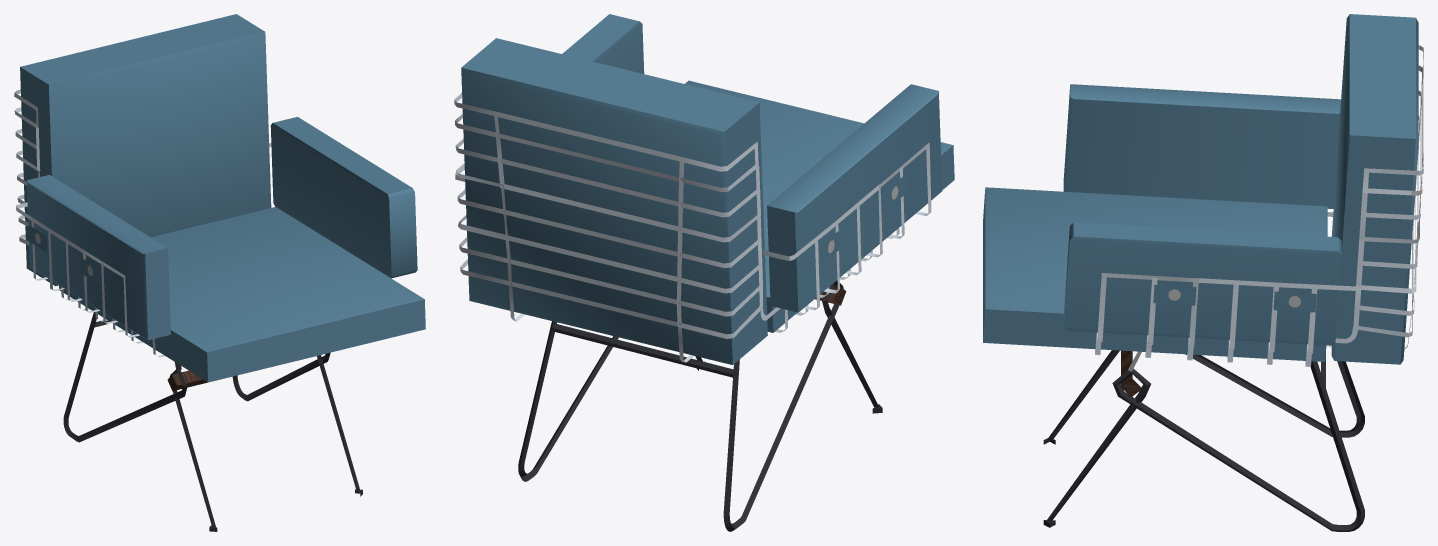
File: LC_3007_Chair_C_LOD1.FBX
The picture shows the model from 3 angles, left to right: view 1: azimuth 30°, elevation 25°; view 2: azimuth 150°, elevation 25°; view 3: azimuth 270°, elevation 25°; orthographic projection. The views are drawn at different scales.
Parts seen in each view (by area): view 1: LC_3007_Chair_C_LOD1; view 2: LC_3007_Chair_C_LOD1; view 3: LC_3007_Chair_C_LOD1.
Boxes of the visible parts, x1,y1,x2,y2 form: LC_3007_Chair_C_LOD1: (14, 14, 425, 531); LC_3007_Chair_C_LOD1: (454, 14, 954, 531); LC_3007_Chair_C_LOD1: (983, 14, 1423, 531).
Size of the model in its own units: 50.72 by 60.45 by 58.76.
